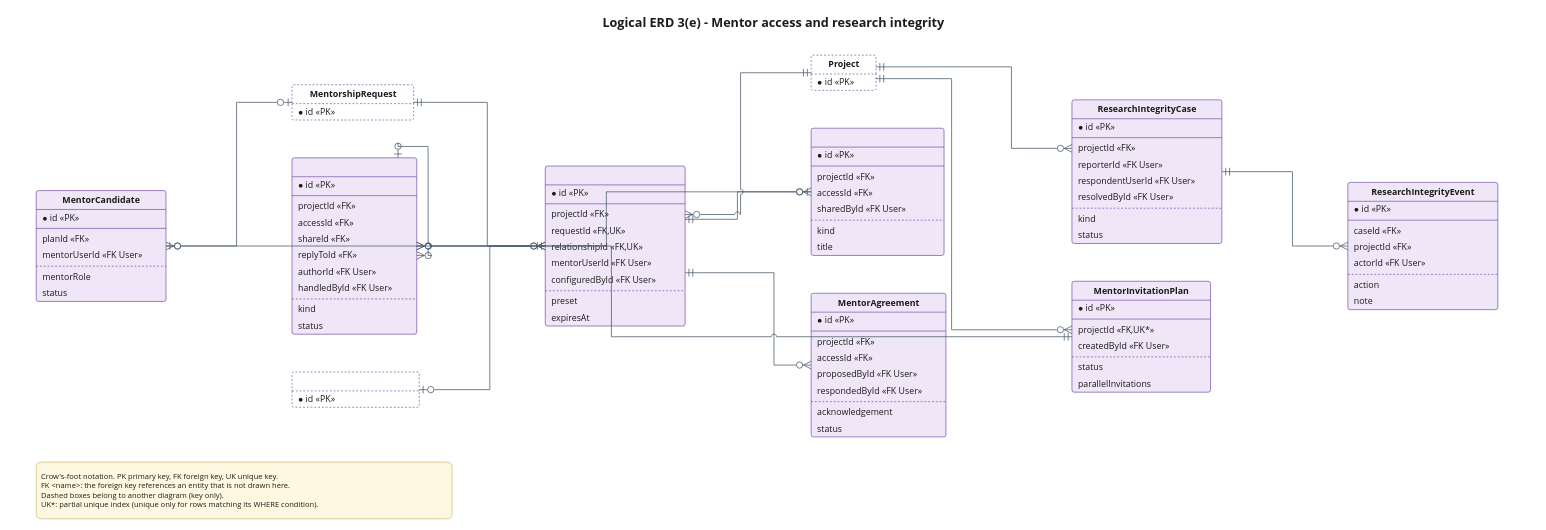
Image size: 1546x530. Some labels were removed from this diagram. Here are the shapes that lost their labels. From the top down, the box of each, then its label:
(810, 128, 944, 255): MentorResourceShare
(291, 157, 417, 334): MentorFeedback
(545, 165, 685, 326): MentorAccess
(291, 371, 419, 407): MentorRelationship
